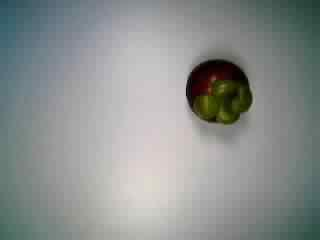mangosteen: (179, 54, 253, 126)
